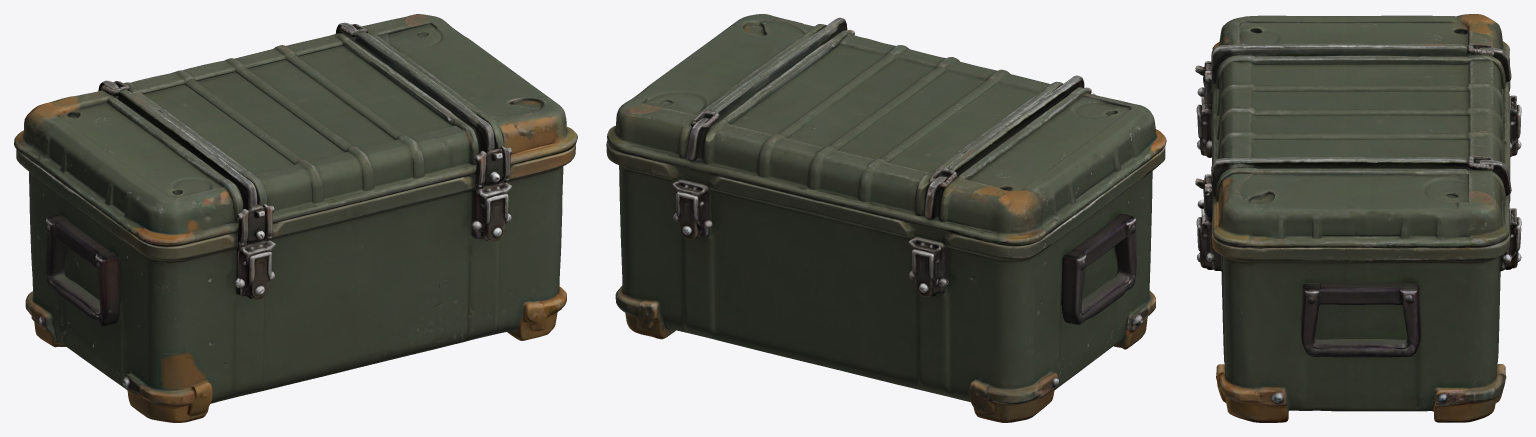
The model's file is supply-crate.glb.
The picture shows the model from 3 angles, left to right: view 1: azimuth 30°, elevation 25°; view 2: azimuth 150°, elevation 25°; view 3: azimuth 270°, elevation 25°; orthographic projection. The views are drawn at different scales.
Parts seen in each view (by area): view 1: lid, body; view 2: lid, body; view 3: lid, body.
Part boxes in pixels (x1,y1,x2,y2): lid: [14, 14, 577, 261]; body: [25, 166, 566, 422]; lid: [606, 14, 1166, 260]; body: [615, 165, 1155, 422]; lid: [1195, 14, 1516, 262]; body: [1196, 101, 1521, 422].
Size of the model in its own units: 0.979 by 0.4834 by 0.632.
1 material, 1 textured.
